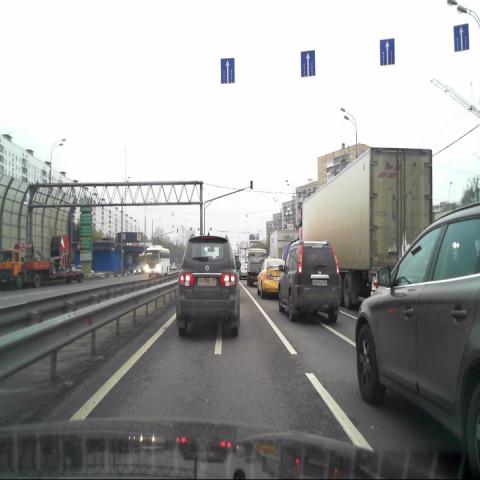5_15_2: (380, 38, 396, 67), (300, 50, 316, 77), (454, 24, 469, 51), (221, 58, 235, 84)
